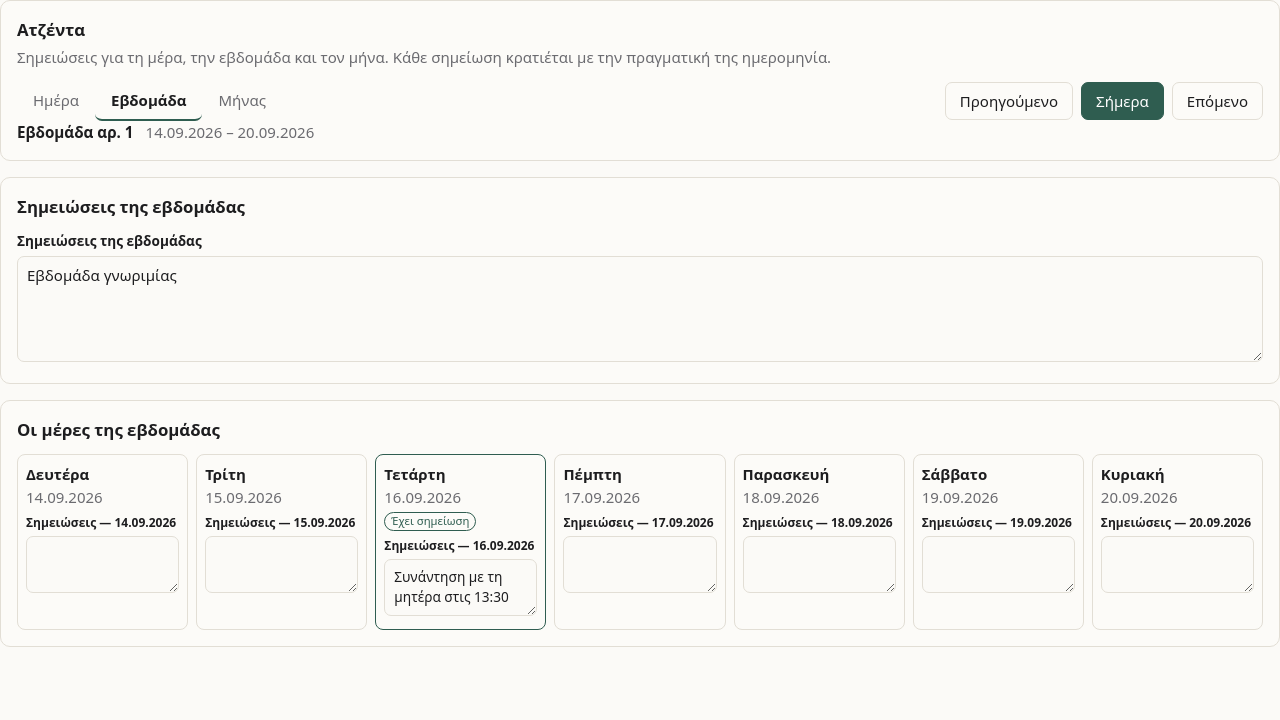
Test case: the agenda › navigation › moves to a day by clicking it in the week strip
The width and height of the screenshot is (1280, 720).
Click the button with aria-label "Επιλογή ημέρας 2026-09-18" at (819, 486), box [743,463,896,508]
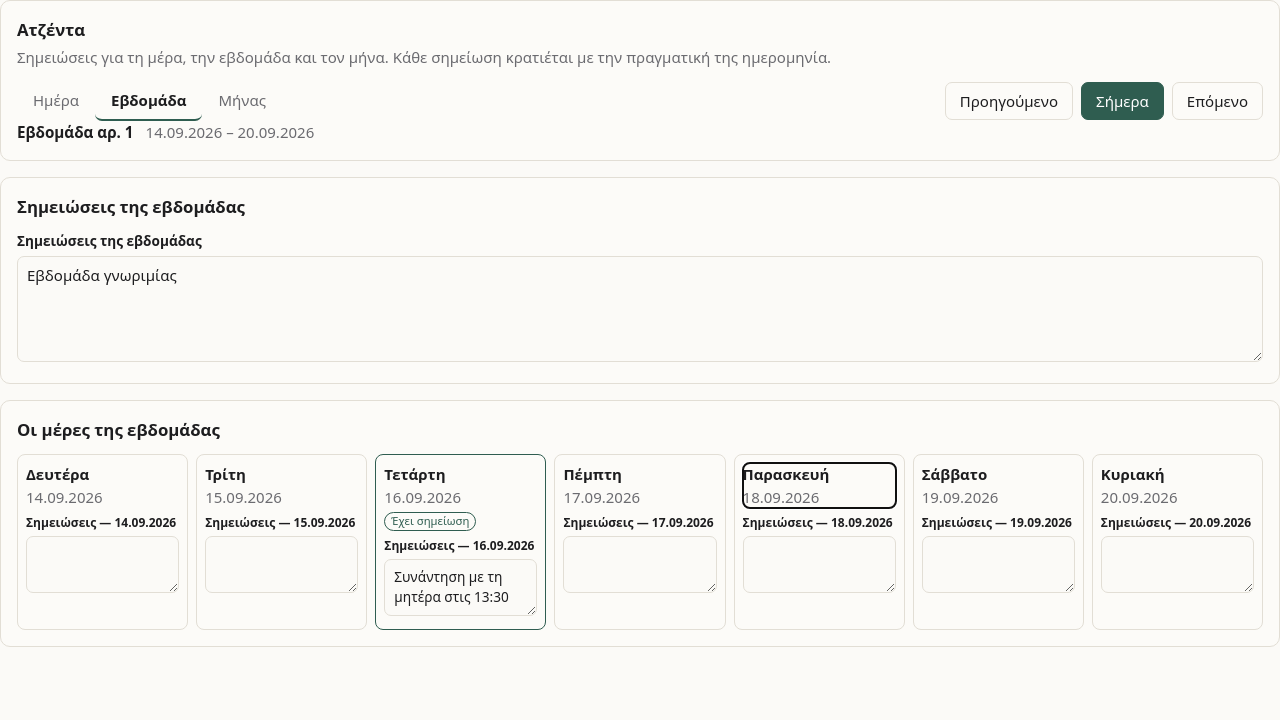
Click the button "Ημέρα" at (56, 101), box [17,81,95,121]
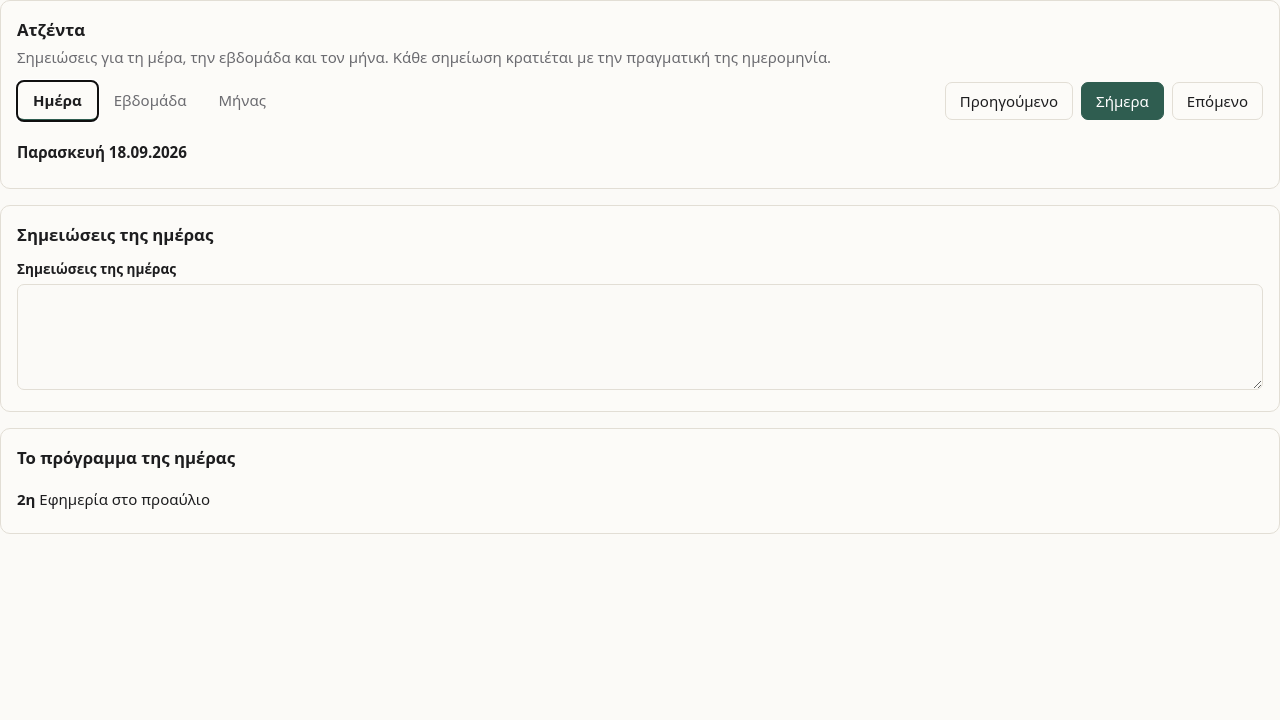
Result: the heading "Παρασκευή 18.09.2026" is shown at [17,142,187,162]
